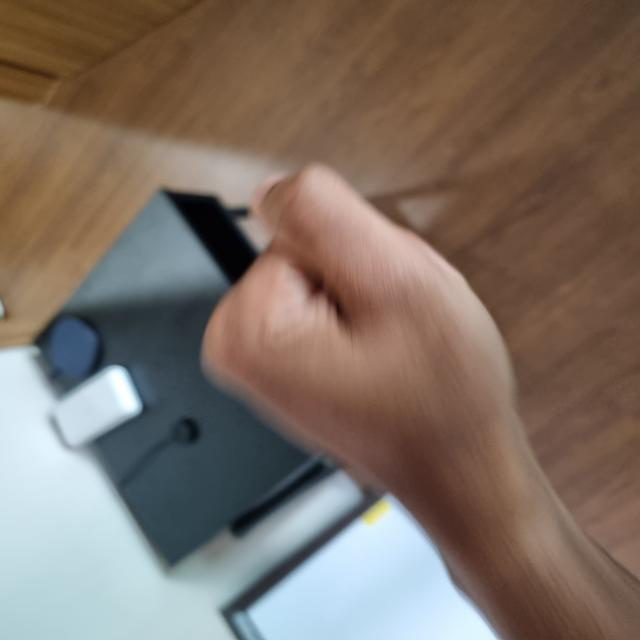Rock: (125, 206, 472, 512)
